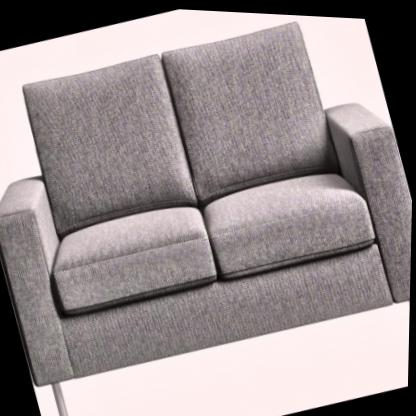Sofa: (0, 0, 416, 401)
